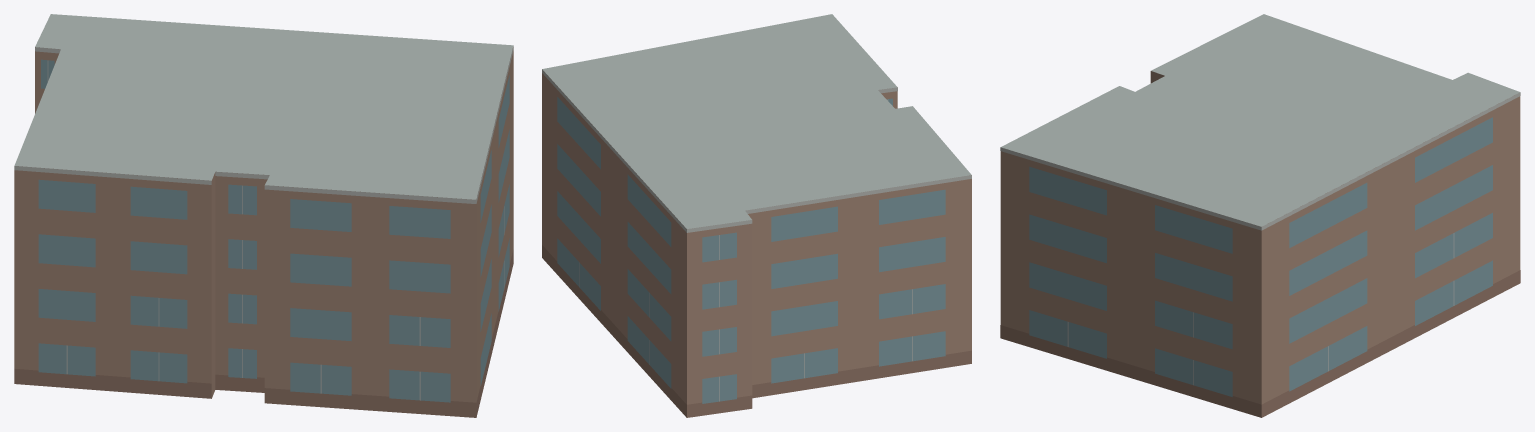
Rendered from survey-upis-32505240.glb.
3 views of the same model, side by side, from view 1: azimuth 30°, elevation 25°; view 2: azimuth 150°, elevation 25°; view 3: azimuth 270°, elevation 25° (orthographic). The views are drawn at different scales.
Parts seen in each view (by area): view 1: survey-upis-32505240.tmp; view 2: survey-upis-32505240.tmp; view 3: survey-upis-32505240.tmp.
Boxes of the visible parts, box(x1,y1,x2,y2) form: survey-upis-32505240.tmp: box(14, 14, 513, 417); survey-upis-32505240.tmp: box(542, 14, 971, 417); survey-upis-32505240.tmp: box(1000, 14, 1520, 417).
Bounding box in the file's own units: 29.15 × 12.2 × 30.1.
